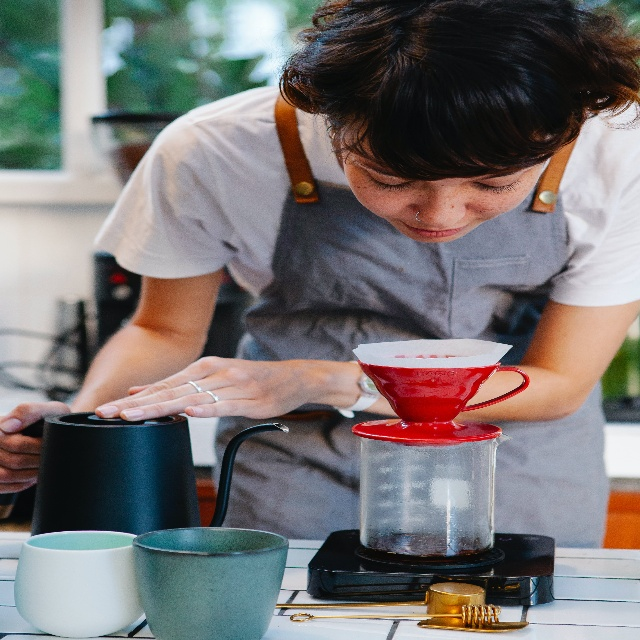Sin_guantes: (94, 354, 307, 419), (0, 399, 71, 494)
